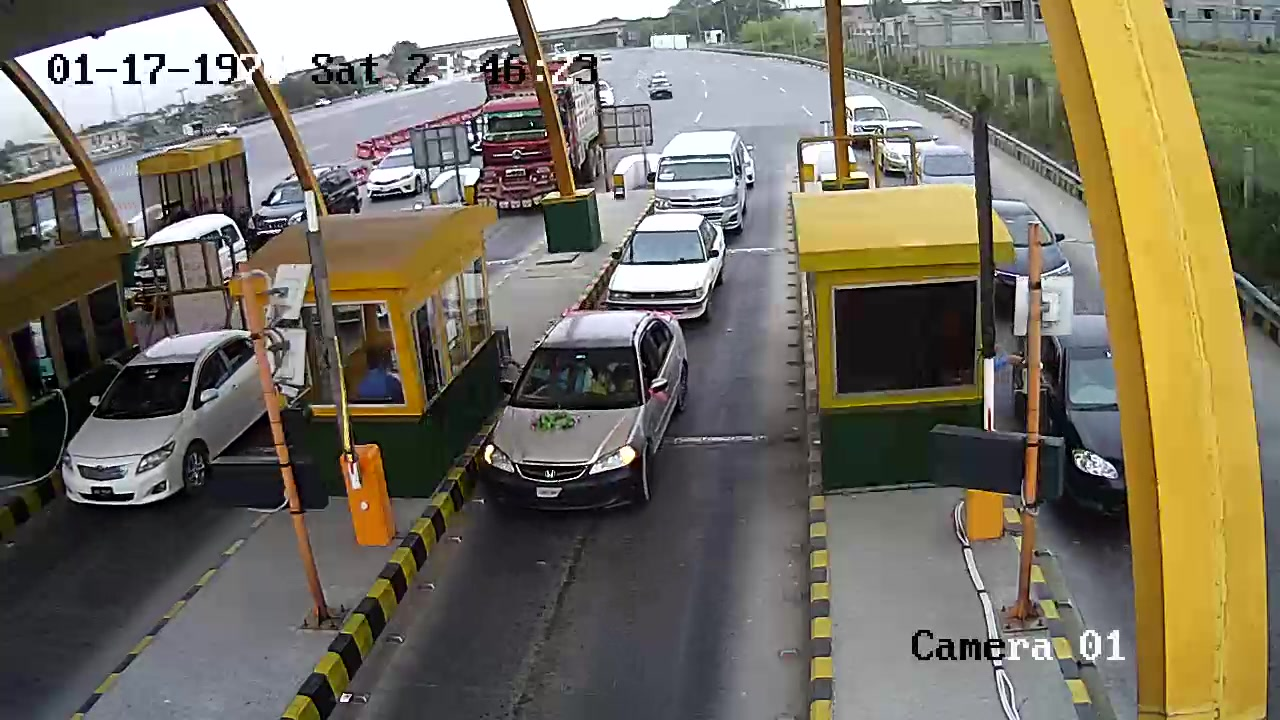F1: (480, 299, 699, 519)
